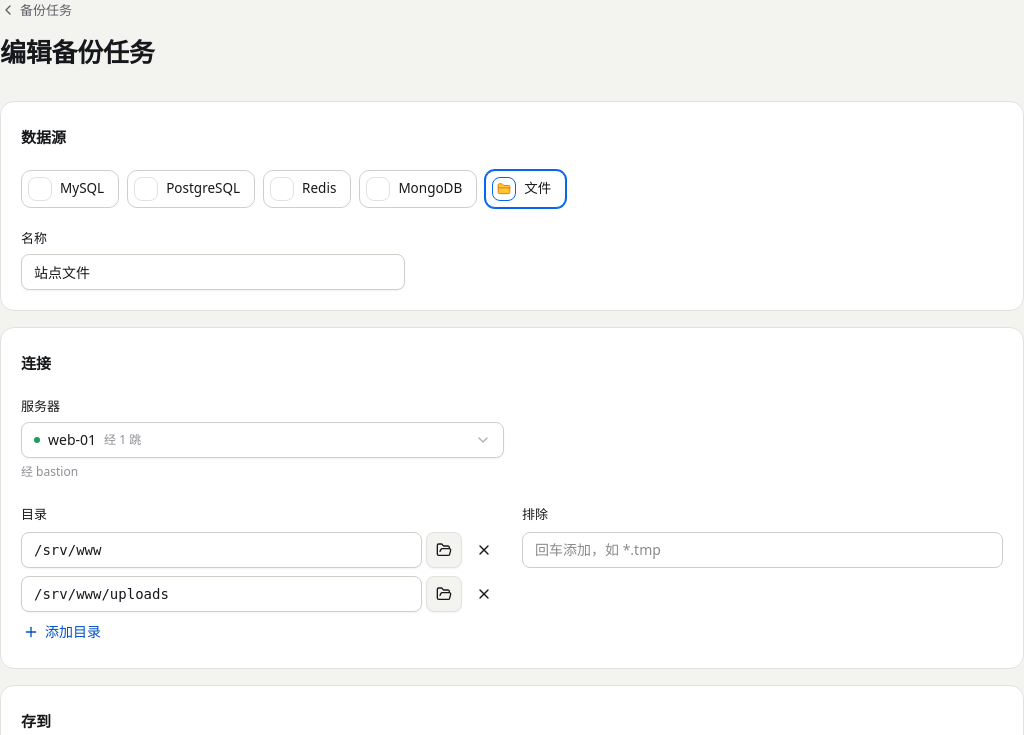
目录浏览 › 删掉前面的目录后，已确认提示不会挂到别的路径上
The width and height of the screenshot is (1024, 735).
Click the button named "浏览目录 2" at (444, 594), box 426,576 -> 462,612
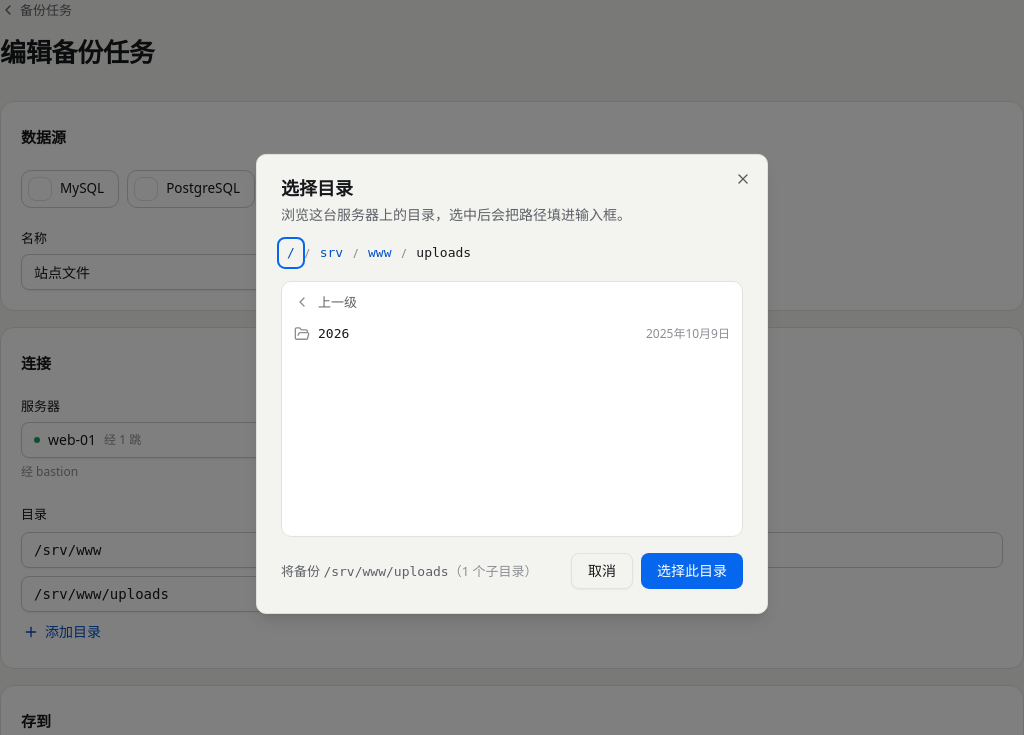
Click the button "选择此目录" at (692, 571), box 641,553 -> 743,589
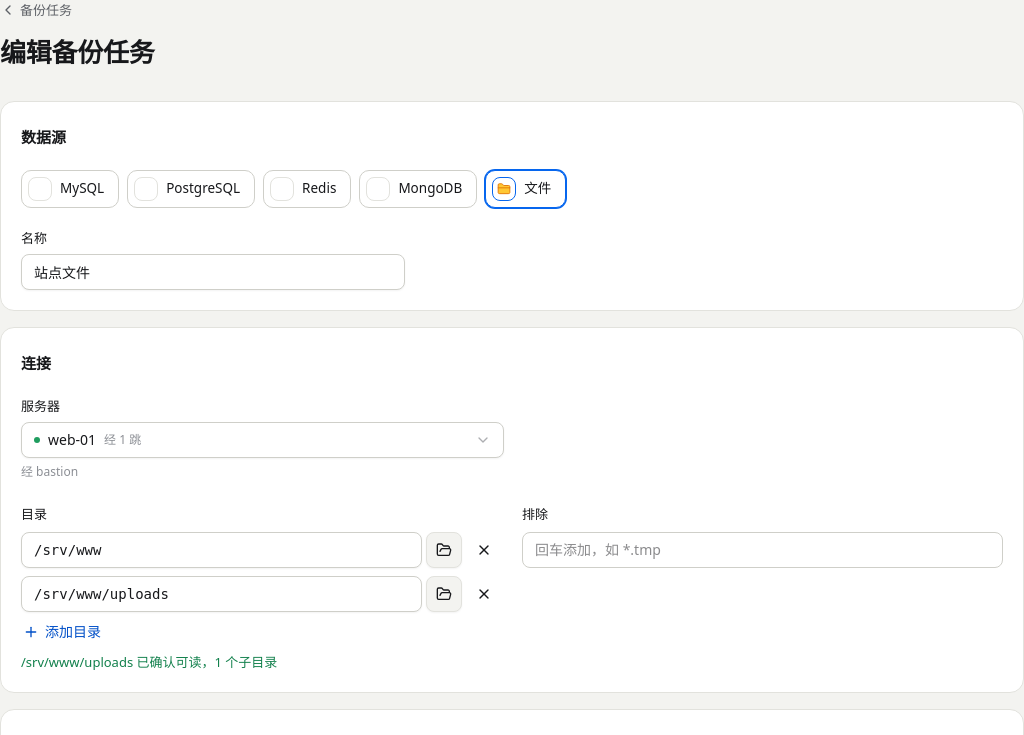
Expected: the text "/srv/www/uploads 已确认可读，1 个子目录" is shown, 21,653 -> 277,671
Click the button named "移除目录 1" at (484, 550), box 466,532 -> 502,568
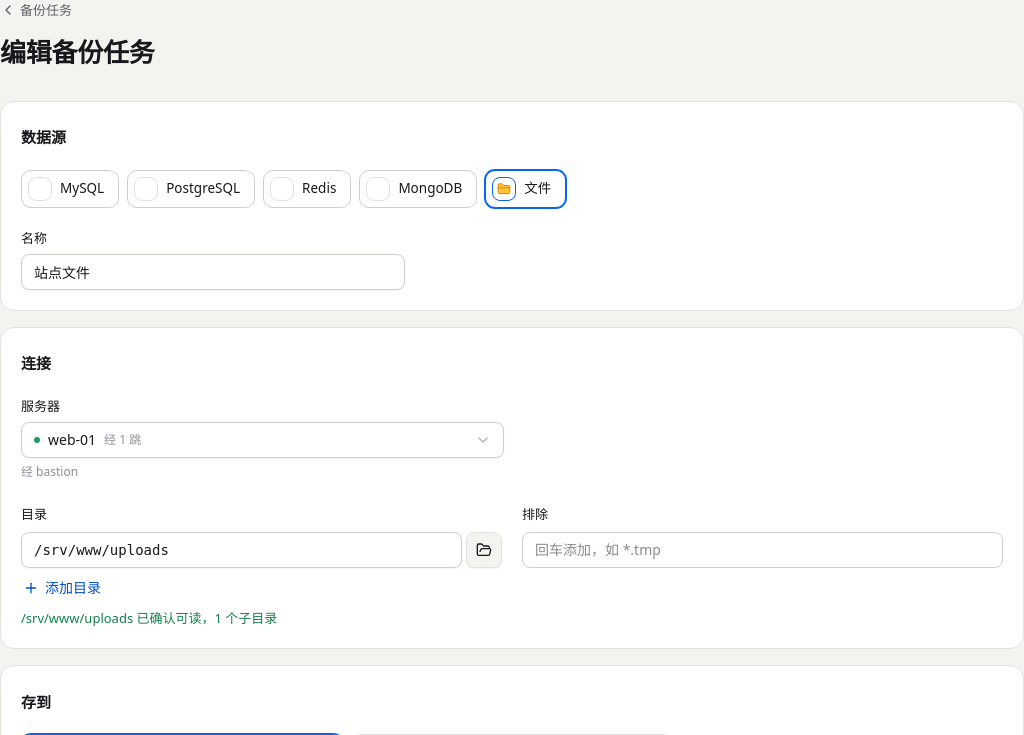
Expected: the text "/srv/www/uploads 已确认可读，1 个子目录" is shown, 21,609 -> 277,627
Expected: the field named "目录 1" holds "/srv/www/uploads", 21,532 -> 462,568
